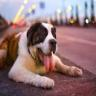dog: (0, 20, 82, 89)
